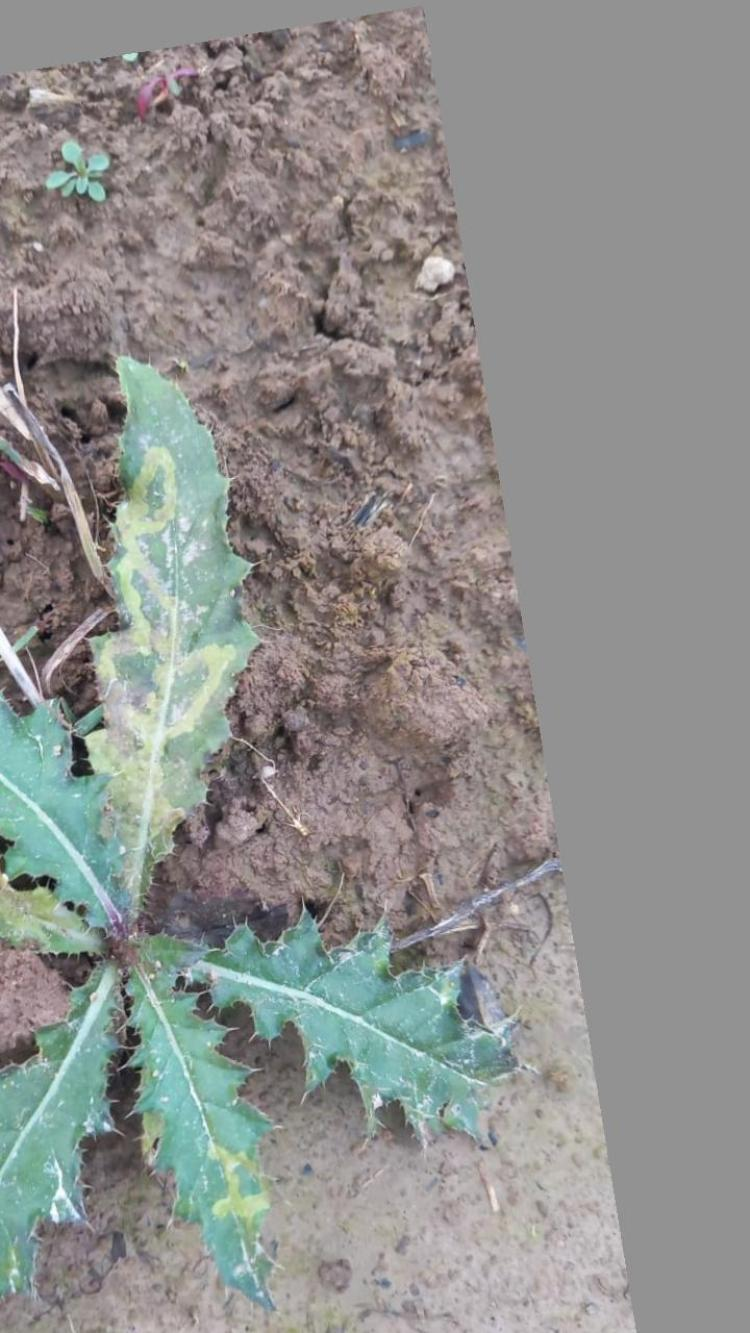osot: (0, 348, 540, 1327)
